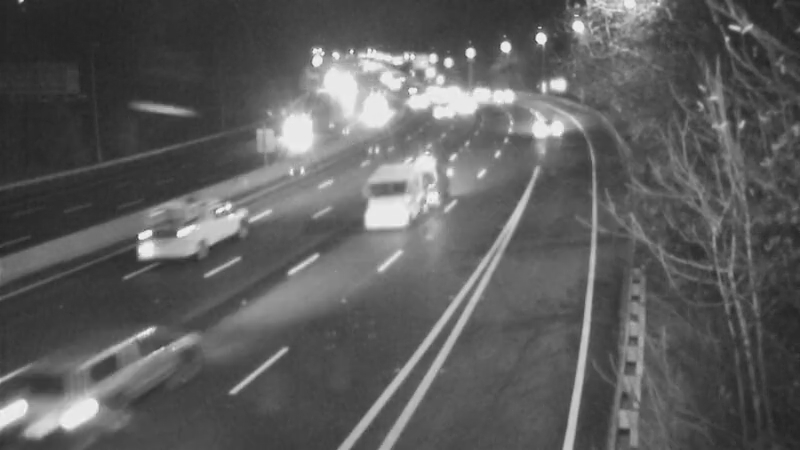vehicle: (68, 314, 178, 424), (354, 150, 434, 230), (141, 185, 221, 265), (385, 65, 435, 115), (455, 71, 505, 121), (481, 73, 531, 123), (391, 72, 441, 122), (438, 83, 488, 133), (415, 86, 465, 136), (519, 100, 569, 150), (269, 109, 319, 159)
